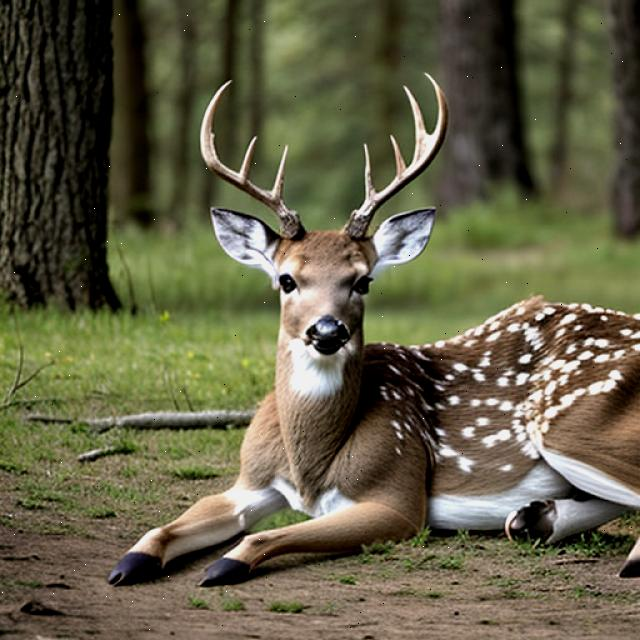deer: (146, 53, 640, 581)
